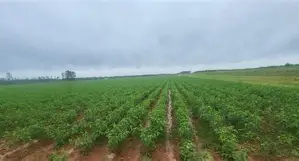crops: (1, 80, 164, 157), (179, 79, 297, 158), (191, 59, 298, 77), (168, 72, 241, 91), (50, 90, 92, 117), (65, 123, 99, 153), (2, 121, 38, 145), (137, 113, 161, 148), (41, 115, 70, 143), (233, 107, 262, 135), (103, 120, 128, 148), (173, 109, 193, 143), (211, 122, 238, 147), (92, 71, 174, 78), (1, 97, 30, 116), (196, 103, 218, 128), (271, 131, 295, 152), (0, 76, 62, 84), (125, 104, 146, 127), (177, 139, 197, 159), (256, 136, 275, 156), (228, 146, 248, 161), (80, 106, 94, 123), (47, 150, 68, 161), (93, 118, 108, 133), (138, 96, 152, 112), (199, 148, 215, 161), (138, 151, 152, 160), (189, 68, 216, 72), (289, 147, 299, 156), (39, 97, 50, 102)
